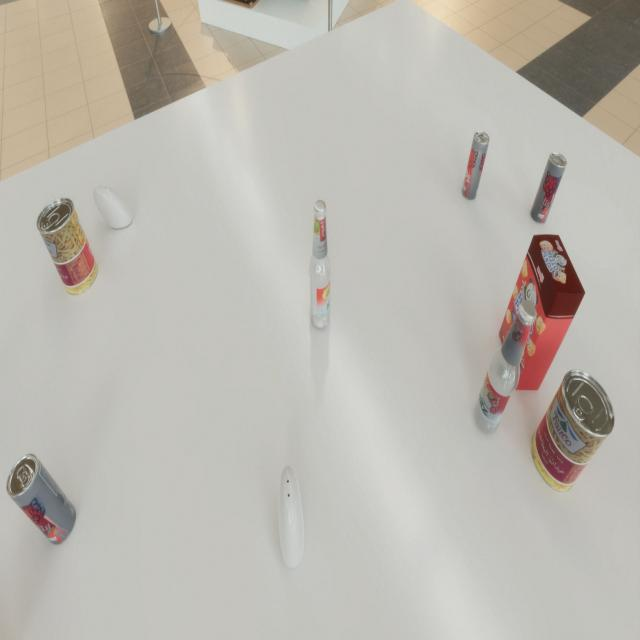Bottle: (474, 300, 536, 436), (309, 200, 331, 331)
HelloPanda: (499, 234, 585, 390)
Potato_sticks: (531, 370, 615, 492), (36, 198, 98, 295)
Rita_zero_sugar: (6, 454, 76, 544), (530, 152, 567, 224), (462, 130, 490, 200)
Salt: (278, 464, 304, 568), (93, 185, 133, 229)
